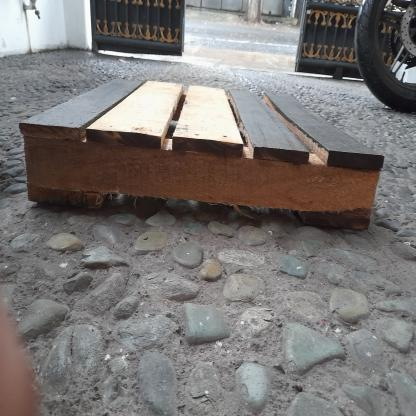Wooden-Pallet: (16, 74, 391, 236)
